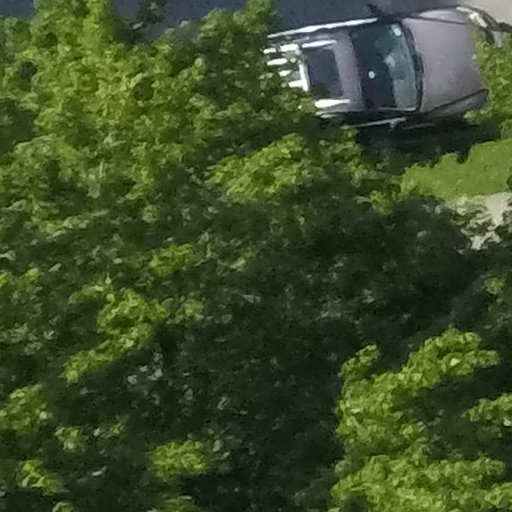car: (243, 1, 508, 133)
